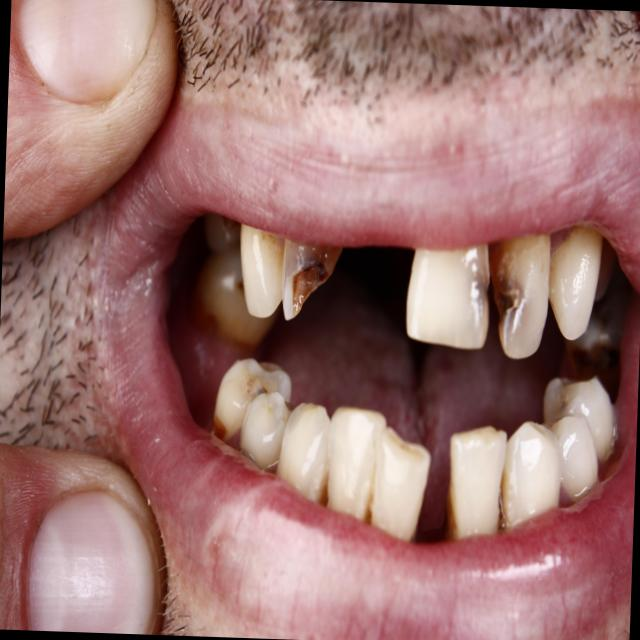Caries: (499, 292, 513, 314), (303, 266, 310, 272), (257, 388, 263, 395), (262, 387, 267, 392)
Cavity: (291, 262, 328, 318), (495, 289, 516, 323)
Tooth: (406, 244, 489, 349), (488, 234, 550, 359), (371, 427, 430, 540), (446, 427, 506, 538), (499, 421, 562, 526), (327, 407, 385, 520), (548, 225, 603, 340), (214, 358, 290, 441), (543, 375, 613, 460), (276, 402, 331, 500), (281, 238, 343, 321), (541, 413, 598, 501), (240, 223, 284, 317), (239, 391, 291, 469), (316, 262, 325, 281)
